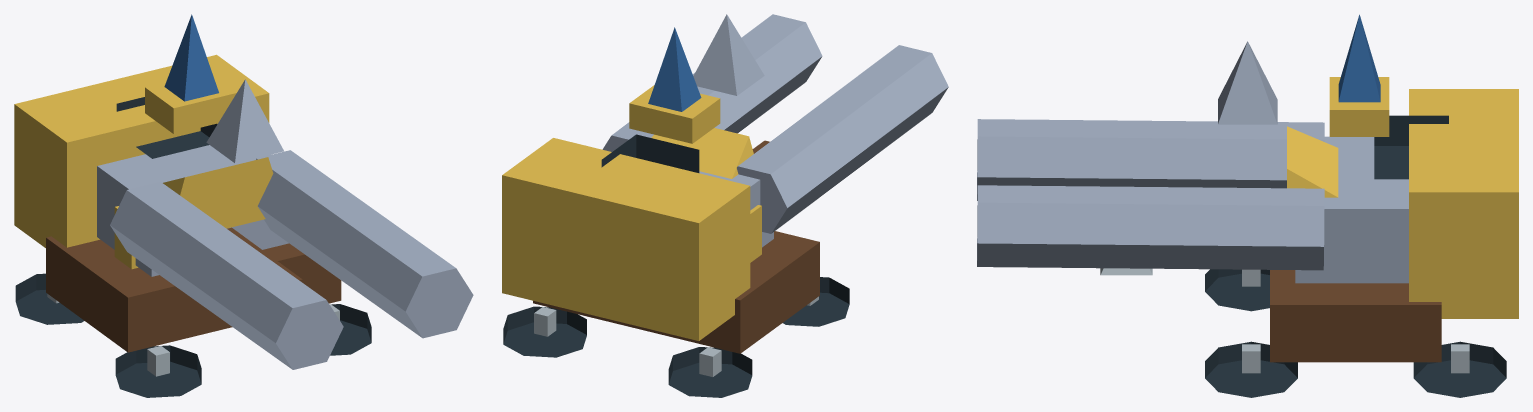
Rendered from heavy-war-machine.obj.
3 views of the same model, side by side, from view 1: azimuth 30°, elevation 25°; view 2: azimuth 150°, elevation 25°; view 3: azimuth 270°, elevation 25° (orthographic). The views are drawn at different scales.
Parts seen in each view (by area): view 1: siege; view 2: siege; view 3: siege.
Part boxes in pixels (x1,y1,x2,y2): siege: [14, 14, 473, 397]; siege: [502, 14, 948, 397]; siege: [977, 14, 1518, 397].
Bounding box in the file's own units: 1.6 × 1.9 × 2.91.
